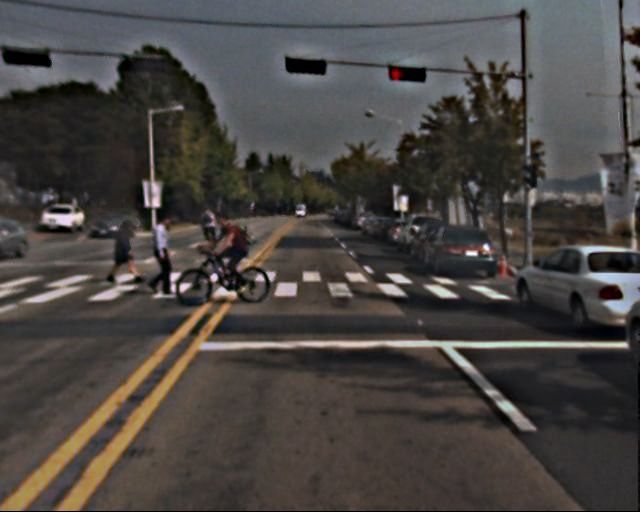person: (218, 204, 256, 288), (149, 212, 183, 297), (114, 213, 141, 286)
